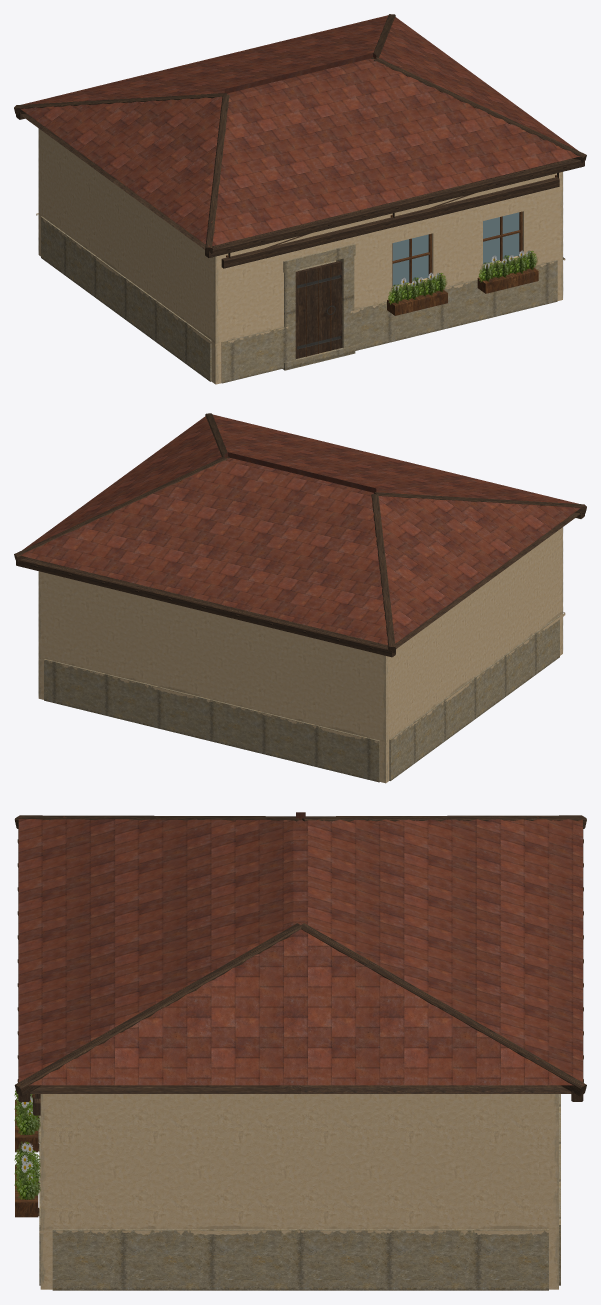
File: B07_vivienda.gltf
3 views of the same model, one above another, from view 1: azimuth 30°, elevation 25°; view 2: azimuth 150°, elevation 25°; view 3: azimuth 270°, elevation 25° (orthographic). The views are drawn at different scales.
Parts seen in each view (by area): view 1: AUR034_B07_clay_tiles, AUR034_B07_lower_masonry, B07_runtime_static_039, B07_runtime_static_000, AUR034_B07_entry_leaf0, B07_runtime_static_048, AUR034_B07_window1_glazing, AUR034_B07_window0_glazing, B07_herbs_1, B07_herbs_0, AUR034_B07_ridge, B07_plaster_stone_joint_wear; view 2: AUR034_B07_clay_tiles, AUR034_B07_lower_masonry, B07_runtime_static_039, B07_runtime_static_000, B07_plaster_stone_joint_wear, AUR034_B07_ridge; view 3: AUR034_B07_clay_tiles, AUR034_B07_lower_masonry, B07_runtime_static_039, B07_runtime_static_000, B07_plaster_stone_joint_wear, B07_herbs_1, B07_runtime_static_048, B07_herbs_0, B07_AUR034_B07_lower_masonry_corner_wear.
Part boxes in pixels (x1=…): AUR034_B07_clay_tiles: x1=20, y1=14, x2=580, y2=246; AUR034_B07_lower_masonry: x1=38, y1=128, x2=562, y2=384; B07_runtime_static_039: x1=41, y1=216, x2=557, y2=383; B07_runtime_static_000: x1=14, y1=14, x2=586, y2=268; AUR034_B07_entry_leaf0: x1=295, y1=260, x2=342, y2=358; B07_runtime_static_048: x1=226, y1=175, x2=557, y2=356; AUR034_B07_window1_glazing: x1=483, y1=212, x2=519, y2=264; AUR034_B07_window0_glazing: x1=392, y1=234, x2=428, y2=285; B07_herbs_1: x1=478, y1=251, x2=537, y2=282; B07_herbs_0: x1=388, y1=273, x2=446, y2=304; AUR034_B07_ridge: x1=224, y1=53, x2=376, y2=93; B07_plaster_stone_joint_wear: x1=36, y1=213, x2=565, y2=345; AUR034_B07_clay_tiles: x1=16, y1=414, x2=583, y2=646; AUR034_B07_lower_masonry: x1=38, y1=527, x2=562, y2=783; B07_runtime_static_039: x1=44, y1=615, x2=559, y2=782; B07_runtime_static_000: x1=14, y1=413, x2=586, y2=657; B07_plaster_stone_joint_wear: x1=39, y1=612, x2=565, y2=744; AUR034_B07_ridge: x1=224, y1=452, x2=376, y2=492; AUR034_B07_clay_tiles: x1=18, y1=816, x2=582, y2=1085; AUR034_B07_lower_masonry: x1=40, y1=1094, x2=558, y2=1289; B07_runtime_static_039: x1=38, y1=1094, x2=560, y2=1290; B07_runtime_static_000: x1=14, y1=815, x2=586, y2=1215; B07_plaster_stone_joint_wear: x1=39, y1=1226, x2=549, y2=1234; B07_herbs_1: x1=14, y1=1141, x2=40, y2=1199; B07_runtime_static_048: x1=15, y1=1094, x2=38, y2=1217; B07_herbs_0: x1=14, y1=1090, x2=40, y2=1134; B07_AUR034_B07_lower_masonry_corner_wear: x1=40, y1=1094, x2=558, y2=1285.
Bounding box in the file's own units: 9.1 × 4.71 × 8.08.
Materials: 12 (11 with a texture image).
